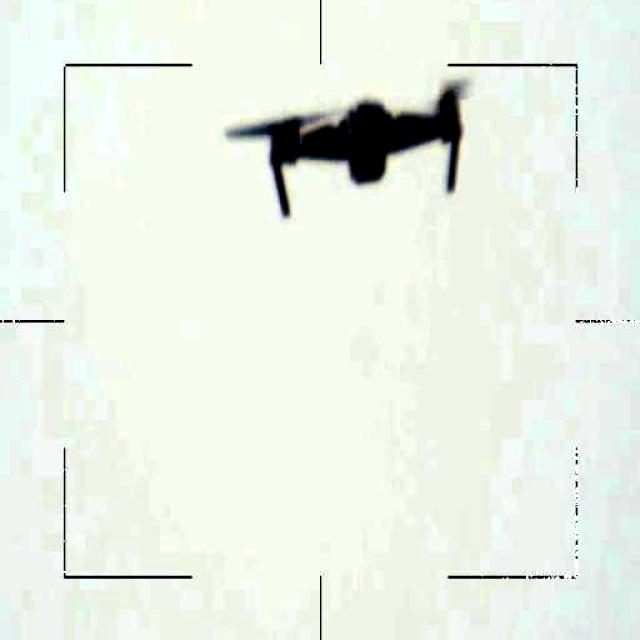bird: (215, 78, 472, 221)
